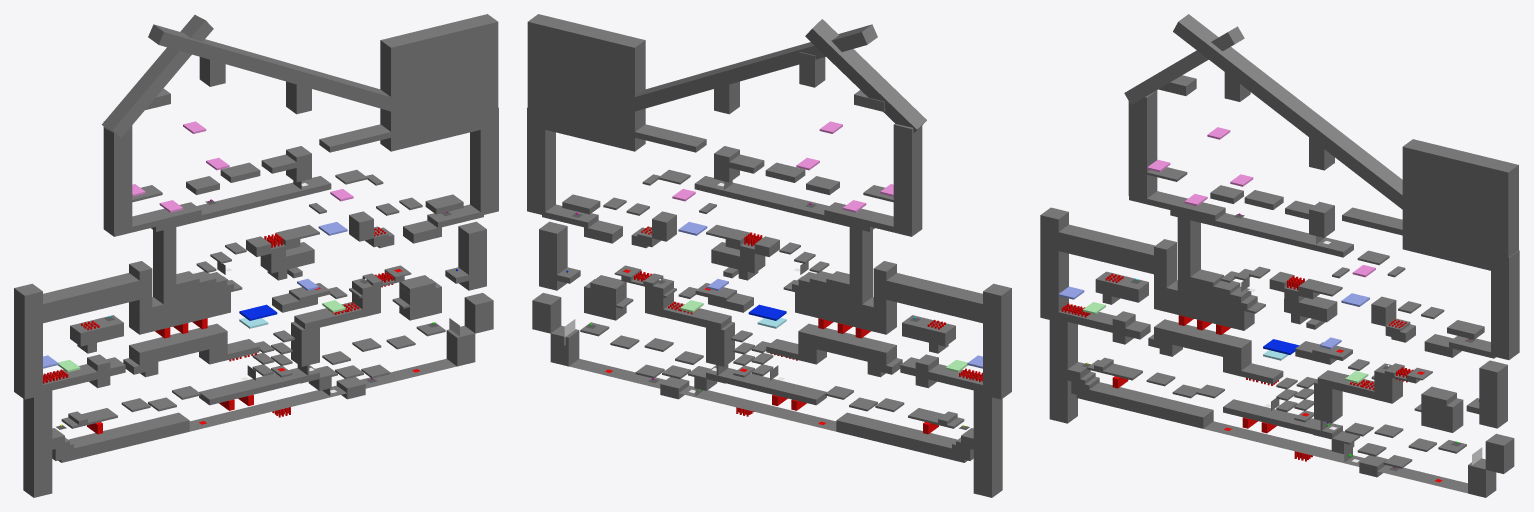
File: FinalLevel.fbx
3 renders of one model, left to right at view 1: azimuth 30°, elevation 25°; view 2: azimuth 150°, elevation 25°; view 3: azimuth 330°, elevation 25°, orthographic.
Visible parts, largest first — view 1: Cube__128_, Cube__131_, Cube__107_, Cube__132_, Cube__38_, Cube__127_, Cube__114_, Cube__88_, Cube__104_, Cube__96_, Cube__58_, Cube__75_ (+29 smaller); view 2: Cube__128_, Cube__131_, Cube__132_, Cube__107_, Cube__127_, Cube__38_, Cube__114_, Cube__88_, Cube__104_, Cube__96_, Cube__27_, Cube__58_ (+29 smaller); view 3: Cube__128_, Cube__131_, Cube__88_, Cube__127_, Cube__114_, Cube__107_, Cube__38_, Cube__96_, Cube__104_, Cube__27_, Cube__132_, Cube__75_ (+27 smaller).
Boxes of the visible parts, bbox=[...] form: Cube__128_: bbox=[380, 14, 498, 151]; Cube__131_: bbox=[148, 24, 413, 115]; Cube__107_: bbox=[14, 283, 42, 399]; Cube__132_: bbox=[102, 15, 213, 138]; Cube__38_: bbox=[23, 390, 52, 497]; Cube__127_: bbox=[103, 121, 132, 232]; Cube__114_: bbox=[42, 273, 141, 323]; Cube__88_: bbox=[470, 107, 498, 215]; Cube__104_: bbox=[129, 290, 230, 334]; Cube__96_: bbox=[151, 176, 331, 231]; Cube__58_: bbox=[129, 328, 214, 365]; Cube__75_: bbox=[153, 226, 176, 313]; Cube__128_: bbox=[527, 14, 645, 151]; Cube__131_: bbox=[612, 24, 877, 116]; Cube__132_: bbox=[805, 19, 926, 132]; Cube__107_: bbox=[983, 283, 1011, 399]; Cube__127_: bbox=[893, 123, 922, 232]; Cube__38_: bbox=[973, 390, 1002, 497]; Cube__114_: bbox=[884, 273, 983, 323]; Cube__88_: bbox=[527, 107, 555, 215]; Cube__104_: bbox=[795, 288, 896, 334]; Cube__96_: bbox=[694, 176, 874, 231]; Cube__27_: bbox=[873, 421, 967, 462]; Cube__58_: bbox=[811, 328, 896, 365]; Cube__128_: bbox=[1402, 139, 1518, 274]; Cube__131_: bbox=[1173, 14, 1424, 222]; Cube__88_: bbox=[1491, 250, 1519, 359]; Cube__127_: bbox=[1128, 90, 1157, 200]; Cube__114_: bbox=[1058, 224, 1155, 274]; Cube__107_: bbox=[1040, 207, 1068, 321]; Cube__38_: bbox=[1049, 317, 1077, 423]; Cube__96_: bbox=[1170, 210, 1353, 257]; Cube__104_: bbox=[1154, 280, 1254, 330]; Cube__27_: bbox=[1076, 382, 1177, 419]; Cube__132_: bbox=[1124, 26, 1244, 104]; Cube__75_: bbox=[1177, 216, 1200, 302].
Bounding box in the file's own units: 25880 × 22641 × 1595.
